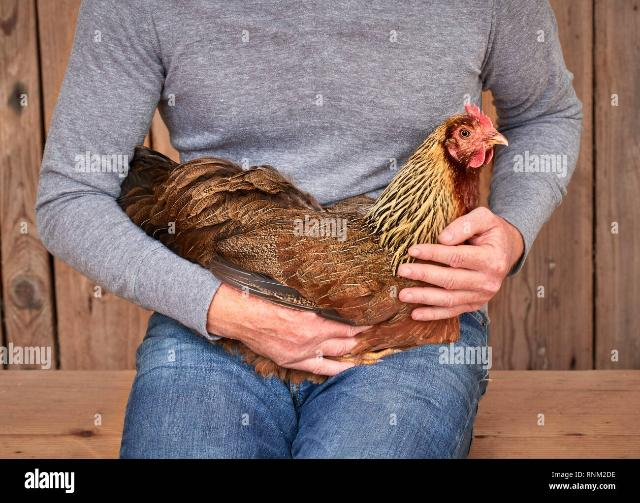Chicken: (110, 100, 511, 384)
